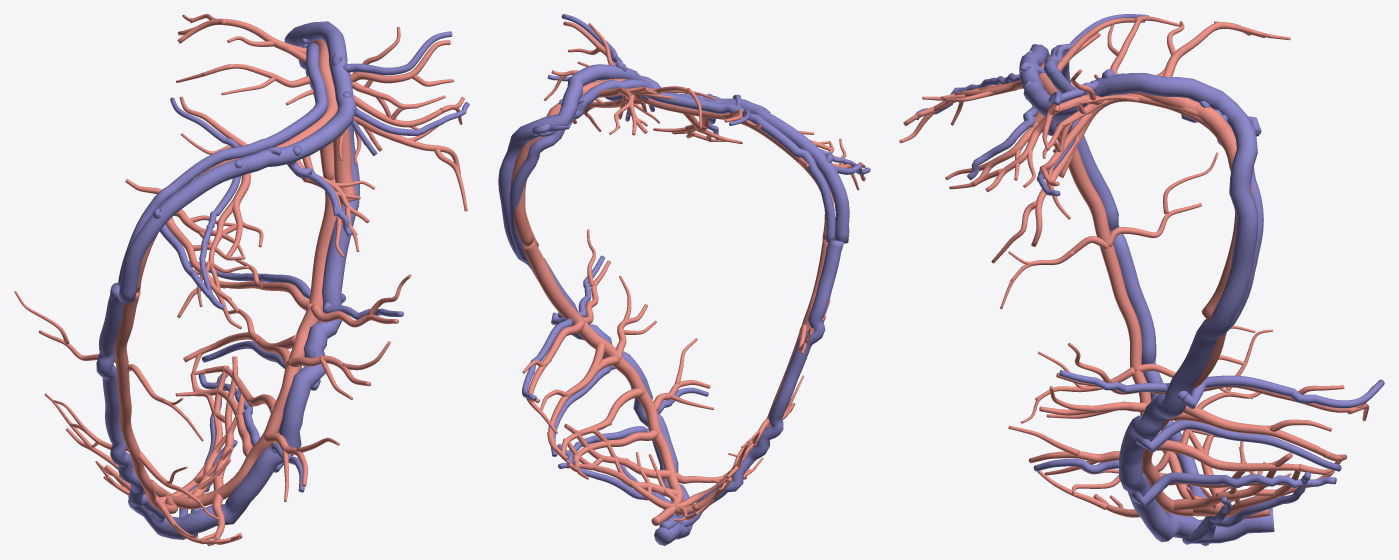
Rendered from vessels_20.glb.
3 views of the same model, side by side, from view 1: azimuth 30°, elevation 25°; view 2: azimuth 150°, elevation 25°; view 3: azimuth 270°, elevation 25° (orthographic). The views are drawn at different scales.
Parts seen in each view (by area): view 1: Renderer Node; view 2: Renderer Node; view 3: Renderer Node.
Boxes of the visible parts, x1,y1,x2,y2 form: Renderer Node: [14, 14, 469, 545]; Renderer Node: [498, 14, 870, 545]; Renderer Node: [899, 14, 1384, 545].
Bounding box in the file's own units: 94.07 × 121 × 94.4.
